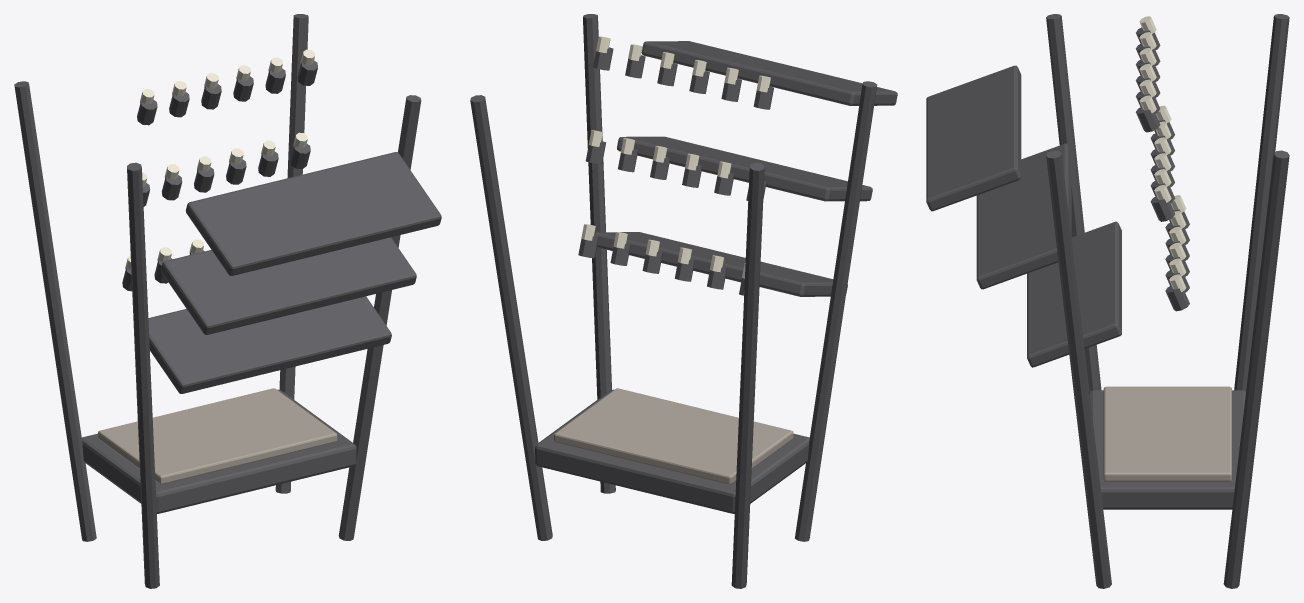
3 views of the same model, side by side, from view 1: azimuth 30°, elevation 25°; view 2: azimuth 150°, elevation 25°; view 3: azimuth 270°, elevation 25° (orthographic).
Parts seen in each view (by area): view 1: votiveStand; view 2: votiveStand; view 3: votiveStand.
Boxes of the visible parts, bbox=[...] form: votiveStand: bbox=[14, 14, 441, 588]; votiveStand: bbox=[470, 14, 897, 588]; votiveStand: bbox=[926, 14, 1289, 588].
Size of the model in its own units: 0.6932 by 1.08 by 0.7363.
